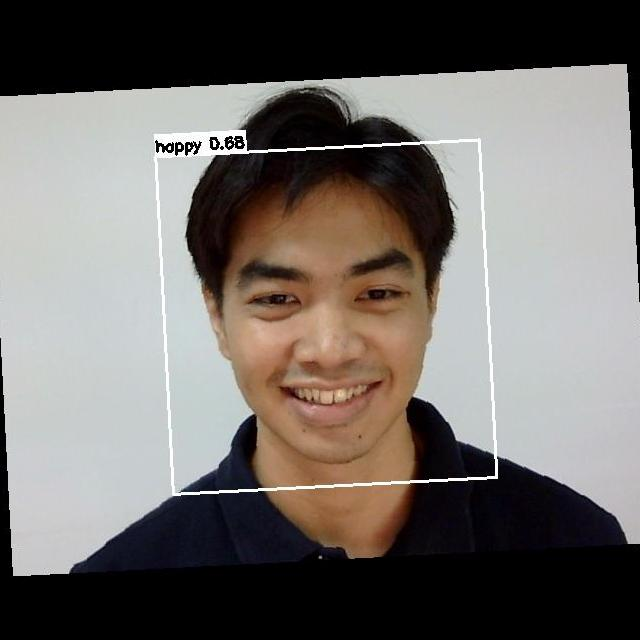Happy: (215, 216, 430, 440)
